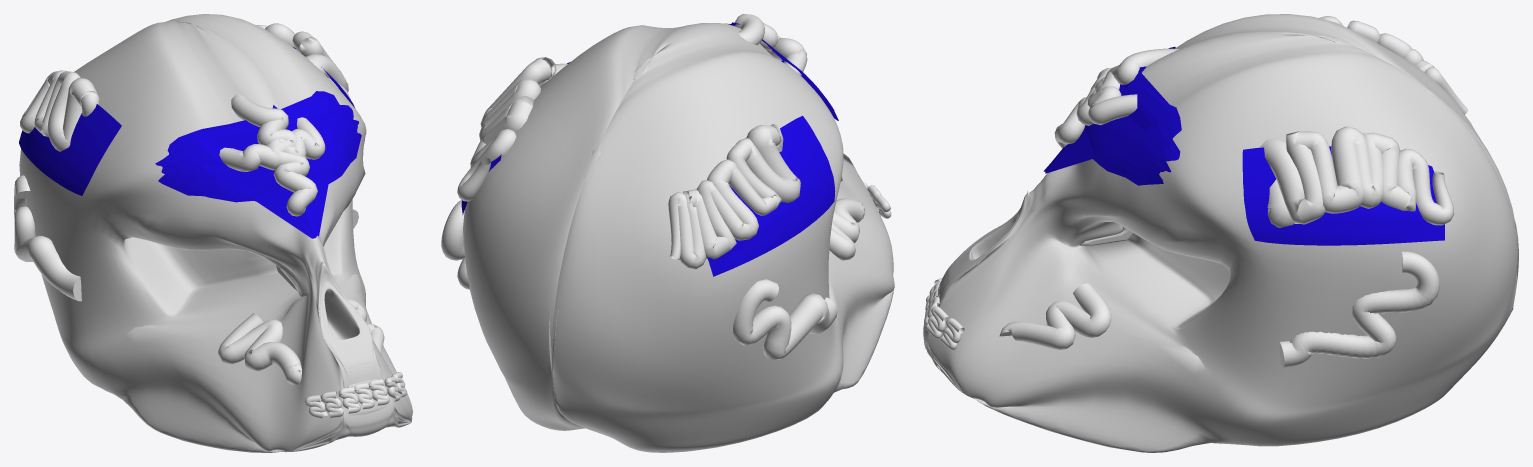
File: calavera .fbx
3 views of the same model, side by side, from view 1: azimuth 30°, elevation 25°; view 2: azimuth 150°, elevation 25°; view 3: azimuth 270°, elevation 25° (orthographic). The views are drawn at different scales.
Parts seen in each view (by area): view 1: Cubo, Plano, Curva Bézier.007, Curva Bézier, Plano.001, Curva Bézier.002, Curva Bézier.001, Curva Bézier.004, Curva Bézier.005, Curva Bézier.008, Curva Bézier.003; view 2: Cubo, Curva Bézier.002, Plano.001, Curva Bézier.007, Curva Bézier.001, Curva Bézier, Curva Bézier.008; view 3: Cubo, Curva Bézier.001, Curva Bézier.008, Plano.001, Plano, Curva Bézier, Curva Bézier.002, Curva Bézier.003.
Part boxes in pixels (x1,y1,x2,y2): Cubo: (19, 14, 412, 452); Plano: (155, 91, 361, 238); Curva Bézier.007: (14, 175, 301, 385); Curva Bézier: (219, 94, 325, 216); Plano.001: (19, 46, 354, 195); Curva Bézier.002: (20, 70, 99, 151); Curva Bézier.001: (256, 23, 350, 99); Curva Bézier.004: (338, 379, 389, 413); Curva Bézier.005: (305, 391, 343, 418); Curva Bézier.008: (347, 209, 384, 355); Curva Bézier.003: (384, 372, 406, 401); Cubo: (463, 23, 894, 452); Curva Bézier.002: (668, 124, 800, 269); Plano.001: (461, 62, 835, 276); Curva Bézier.007: (733, 198, 865, 359); Curva Bézier.001: (457, 57, 567, 201); Curva Bézier: (724, 14, 807, 75); Curva Bézier.008: (441, 199, 469, 289); Cubo: (923, 14, 1518, 452); Curva Bézier.001: (1260, 126, 1454, 227); Curva Bézier.008: (999, 251, 1439, 367); Plano.001: (1242, 146, 1444, 245); Plano: (1043, 47, 1181, 185); Curva Bézier: (1054, 48, 1178, 148); Curva Bézier.002: (1319, 16, 1468, 114); Curva Bézier.003: (925, 306, 964, 349).
Bounding box in the file's own units: 229 × 229 × 344.
